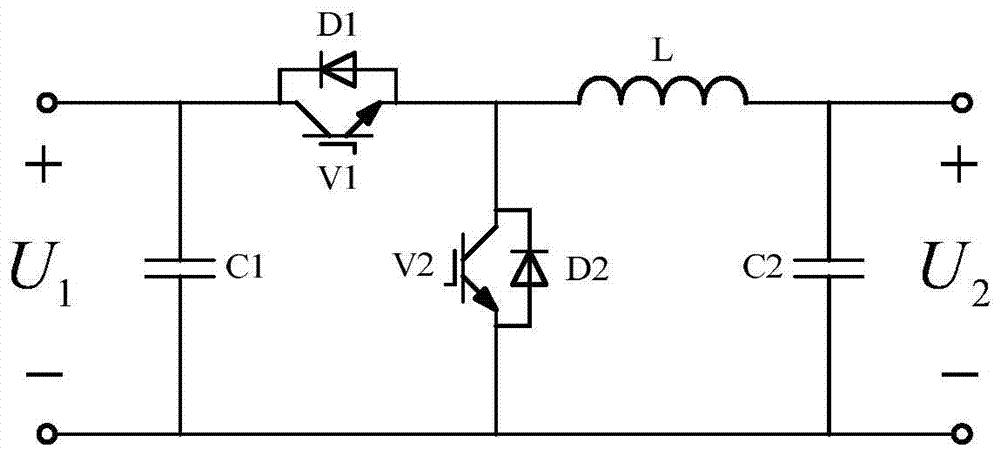cap1: (138, 254, 219, 285), (787, 254, 869, 284)
diode: (312, 48, 364, 93), (507, 241, 552, 292)
inductance: (569, 74, 754, 113)
triode: (286, 96, 386, 150), (446, 227, 499, 316)
